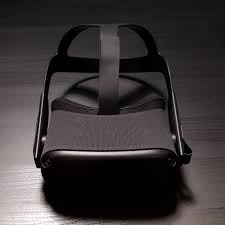oculus: (34, 71, 193, 185)
